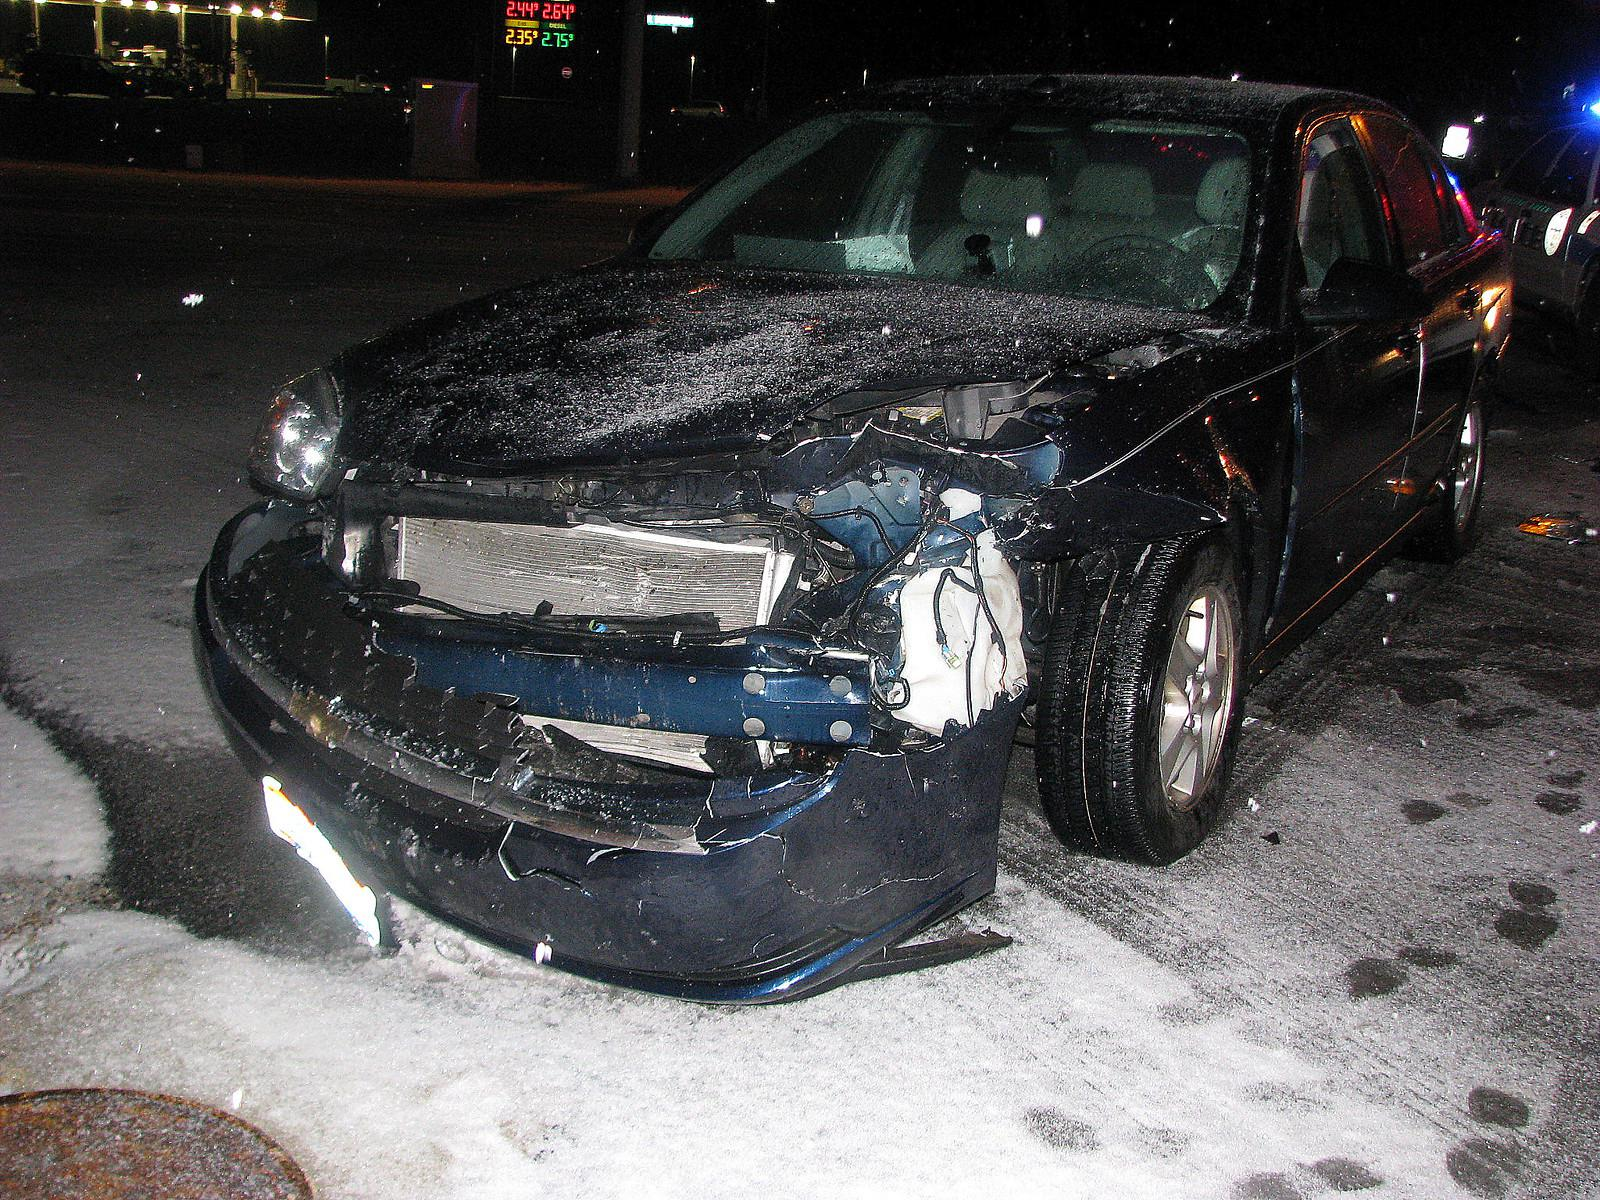bonnet-dent: (428, 211, 1057, 516)
front-bumper-dent: (299, 673, 877, 921)
